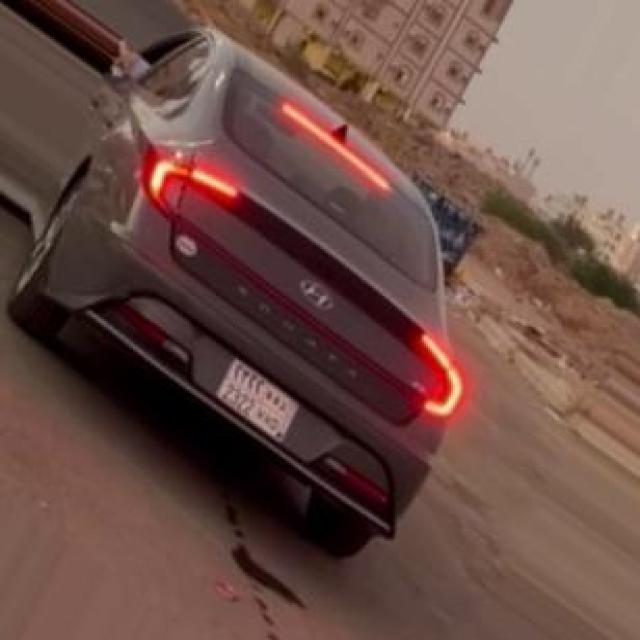Car-plate: (207, 349, 308, 448)
